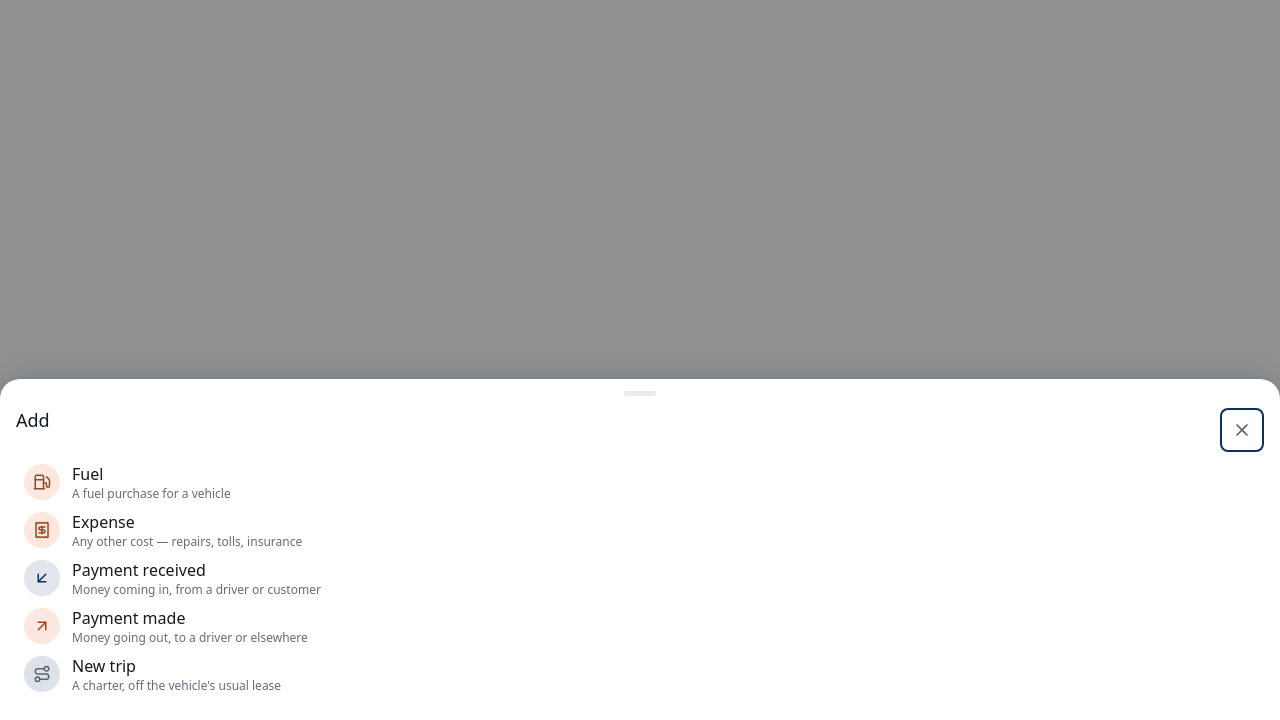
Fuel opens the fuel-fill sheet, and it stays open on a touch device (GAP-104)
The image size is (1280, 720).
Click the button "Fuel A fuel purchase for a vehicle" at (42, 482), box x1=16 y1=460 x2=1264 y2=504
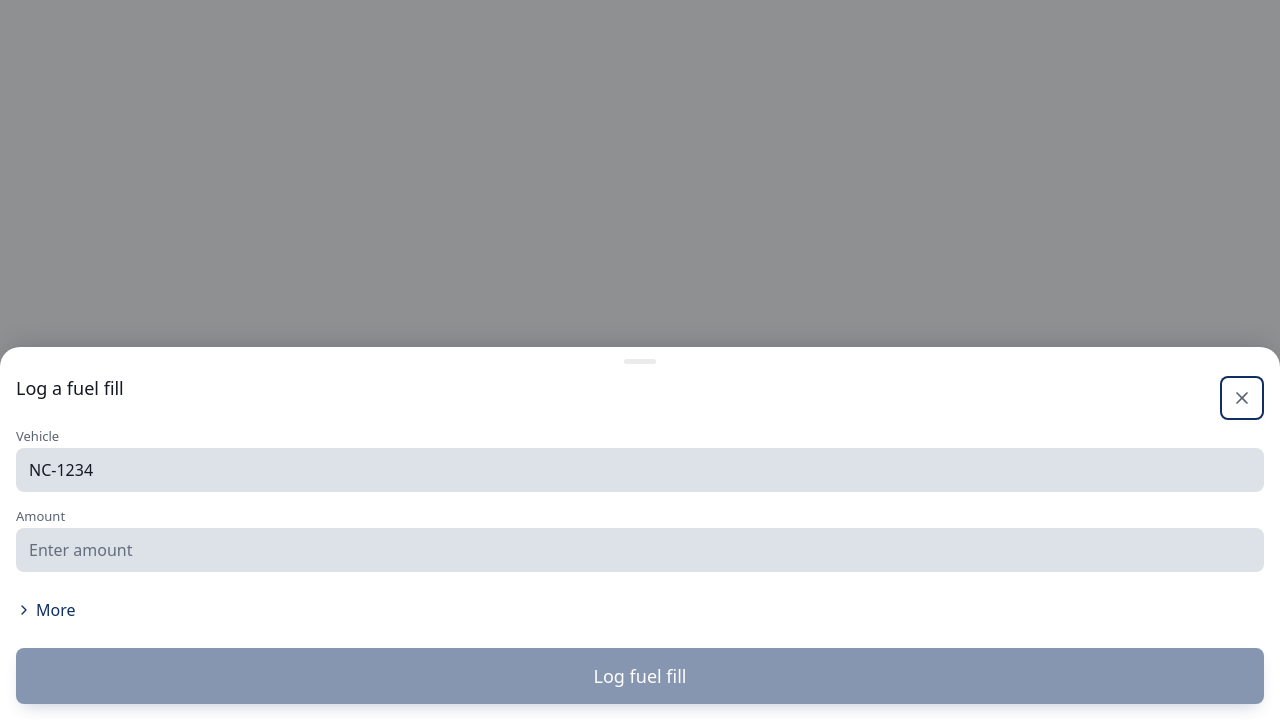
Expected: the heading "Log a fuel fill" is shown, x1=16 y1=376 x2=124 y2=400
